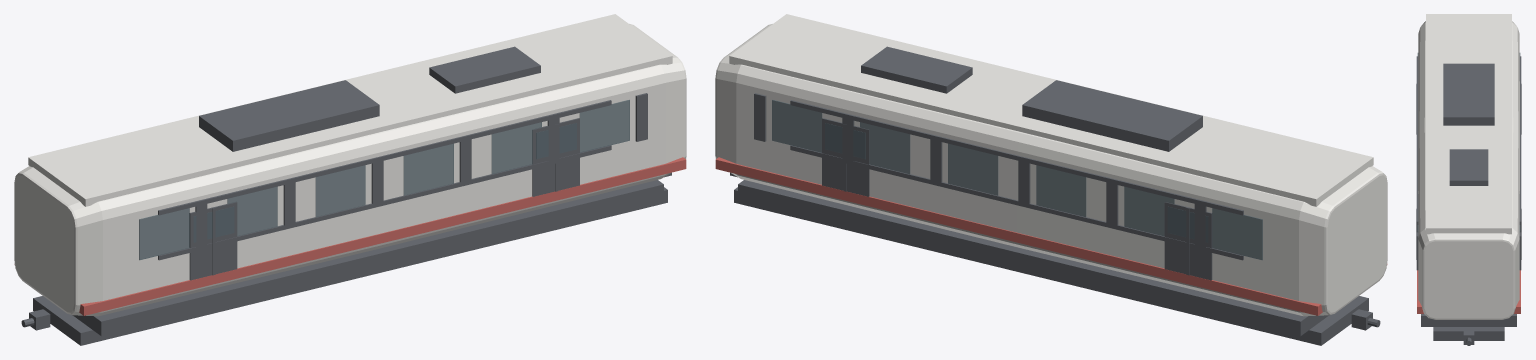
Rendered from TRAIN_CAR_01.glb.
3 views of the same model, side by side, from view 1: azimuth 30°, elevation 25°; view 2: azimuth 150°, elevation 25°; view 3: azimuth 270°, elevation 25° (orthographic). The views are drawn at different scales.
Parts seen in each view (by area): view 1: TRAIN_CAR_01_Body, TRAIN_CAR_01_Roof, TRAIN_CAR_01_Skirt, TRAIN_CAR_01_Windows, TRAIN_CAR_01_Equip, TRAIN_CAR_01_WinFrames, TRAIN_CAR_01_Stripe, TRAIN_CAR_01_Doors, TRAIN_CAR_01_Underframe, TRAIN_CAR_01_DoorGlass; view 2: TRAIN_CAR_01_Body, TRAIN_CAR_01_Roof, TRAIN_CAR_01_Skirt, TRAIN_CAR_01_Windows, TRAIN_CAR_01_Equip, TRAIN_CAR_01_WinFrames, TRAIN_CAR_01_Stripe, TRAIN_CAR_01_Doors, TRAIN_CAR_01_Underframe, TRAIN_CAR_01_DoorGlass; view 3: TRAIN_CAR_01_Roof, TRAIN_CAR_01_Body, TRAIN_CAR_01_Equip, TRAIN_CAR_01_WinFrames, TRAIN_CAR_01_Underframe, TRAIN_CAR_01_Skirt, TRAIN_CAR_01_Stripe, TRAIN_CAR_01_Doors, TRAIN_CAR_01_Couplers.
Part boxes in pixels (x1=…): TRAIN_CAR_01_Body: x1=14, y1=24, x2=686, y2=316; TRAIN_CAR_01_Roof: x1=28, y1=14, x2=672, y2=206; TRAIN_CAR_01_Skirt: x1=72, y1=180, x2=663, y2=335; TRAIN_CAR_01_Windows: x1=139, y1=99, x2=629, y2=260; TRAIN_CAR_01_Equip: x1=199, y1=46, x2=540, y2=151; TRAIN_CAR_01_WinFrames: x1=158, y1=93, x2=647, y2=260; TRAIN_CAR_01_Stripe: x1=14, y1=157, x2=686, y2=315; TRAIN_CAR_01_Doors: x1=189, y1=118, x2=579, y2=280; TRAIN_CAR_01_Underframe: x1=33, y1=187, x2=667, y2=345; TRAIN_CAR_01_DoorGlass: x1=193, y1=123, x2=576, y2=242; TRAIN_CAR_01_Body: x1=715, y1=24, x2=1387, y2=316; TRAIN_CAR_01_Roof: x1=729, y1=14, x2=1373, y2=206; TRAIN_CAR_01_Skirt: x1=738, y1=180, x2=1329, y2=335; TRAIN_CAR_01_Windows: x1=772, y1=99, x2=1262, y2=260; TRAIN_CAR_01_Equip: x1=861, y1=46, x2=1202, y2=151; TRAIN_CAR_01_WinFrames: x1=754, y1=93, x2=1243, y2=260; TRAIN_CAR_01_Stripe: x1=715, y1=157, x2=1387, y2=315; TRAIN_CAR_01_Doors: x1=822, y1=118, x2=1212, y2=280; TRAIN_CAR_01_Underframe: x1=734, y1=187, x2=1368, y2=345; TRAIN_CAR_01_DoorGlass: x1=825, y1=123, x2=1208, y2=242; TRAIN_CAR_01_Roof: x1=1426, y1=14, x2=1511, y2=234; TRAIN_CAR_01_Body: x1=1418, y1=21, x2=1519, y2=319; TRAIN_CAR_01_Equip: x1=1443, y1=63, x2=1494, y2=185; TRAIN_CAR_01_WinFrames: x1=1416, y1=56, x2=1521, y2=270; TRAIN_CAR_01_Underframe: x1=1433, y1=327, x2=1504, y2=340; TRAIN_CAR_01_Skirt: x1=1421, y1=314, x2=1516, y2=326; TRAIN_CAR_01_Stripe: x1=1417, y1=270, x2=1520, y2=313; TRAIN_CAR_01_Doors: x1=1416, y1=84, x2=1521, y2=259; TRAIN_CAR_01_Couplers: x1=1463, y1=330, x2=1474, y2=345.
Bounding box in the file's own units: 16.04 × 3.78 × 2.98.
